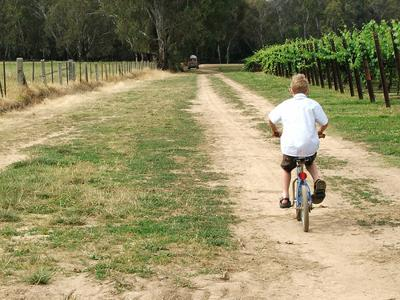person: (269, 73, 331, 210)
